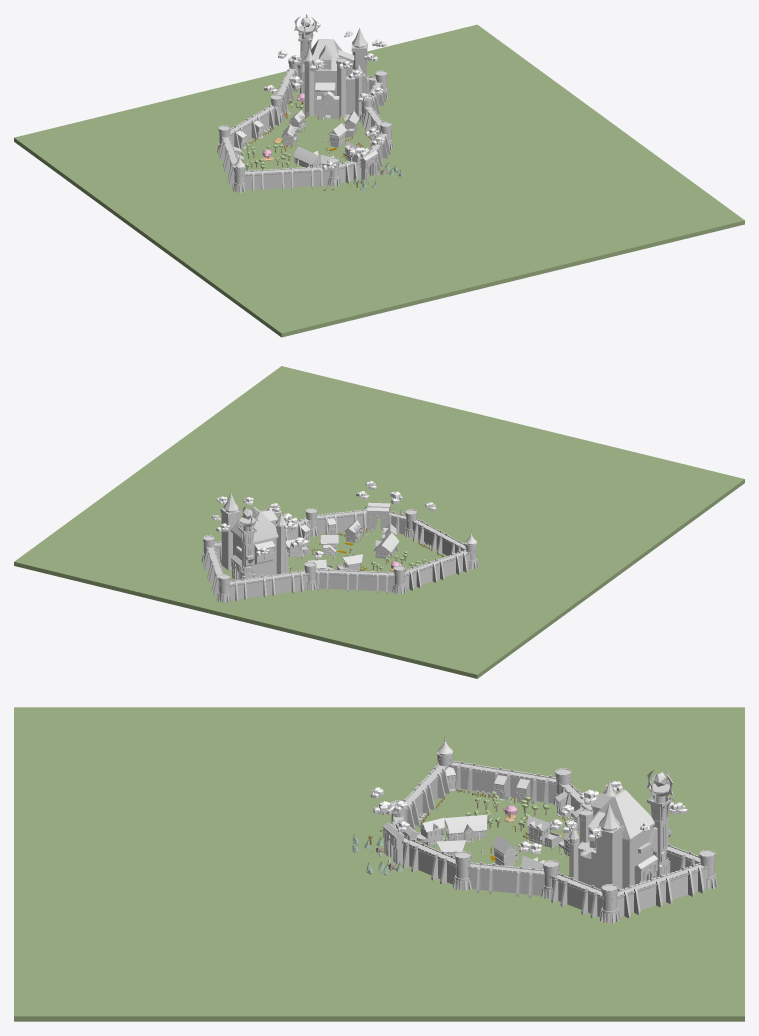
The model's file is castle-town.fbx.
3 renders of one model, top to bottom at view 1: azimuth 30°, elevation 25°; view 2: azimuth 150°, elevation 25°; view 3: azimuth 270°, elevation 25°, orthographic. The views are drawn at different scales.
Visible parts, largest first — view 1: ground, ps.medieval002.Castle, ps.medieval002.portal base.002, ps.medieval002.portal base.004, ps.medieval002.Tower, ps.medieval002.portal base.003; view 2: ground, ps.medieval002.Castle, ps.medieval002.portal base, ps.medieval002.portal base.004, ps.medieval002.portal base.003, ps.medieval002.portal base.002, ps.medieval002.Tower, ps.medieval002.Wall mid, ps.medieval002.portal base.001; view 3: ground, ps.medieval002.Castle, ps.medieval002.portal base.001, ps.medieval002.portal base.003, ps.medieval002.Wall mid.002, ps.medieval002.Tower, ps.medieval002.Wall mid, ps.medieval002.portal base.002, ps.medieval002.Wall mid.001, ps.medieval002.Armory, ps.medieval002.House04.001, ps.medieval002.Entrence small (+5 smaller).
Part boxes in pixels (box(x1,y1,x2,y2)): ground: box(14, 24, 744, 337); ps.medieval002.Castle: box(302, 28, 367, 118); ps.medieval002.portal base.002: box(244, 165, 331, 192); ps.medieval002.portal base.004: box(229, 105, 279, 148); ps.medieval002.Tower: box(294, 14, 317, 93); ps.medieval002.portal base.003: box(218, 136, 238, 185); ground: box(14, 366, 744, 678); ps.medieval002.Castle: box(220, 493, 286, 577); ps.medieval002.portal base: box(229, 570, 309, 601); ps.medieval002.portal base.004: box(315, 568, 394, 593); ps.medieval002.portal base.003: box(405, 550, 471, 590); ps.medieval002.portal base.002: box(412, 518, 465, 555); ps.medieval002.Tower: box(236, 506, 258, 579); ps.medieval002.Wall mid: box(316, 509, 366, 534); ps.medieval002.portal base.001: box(203, 546, 223, 595); ground: box(14, 707, 744, 1021); ps.medieval002.Castle: box(568, 780, 654, 889); ps.medieval002.portal base.001: box(617, 863, 709, 918); ps.medieval002.portal base.003: box(449, 760, 557, 804); ps.medieval002.Wall mid.002: box(467, 862, 544, 897); ps.medieval002.Tower: box(638, 769, 673, 877); ps.medieval002.Wall mid: box(402, 836, 455, 884); ps.medieval002.portal base.002: box(403, 763, 449, 830); ps.medieval002.Wall mid.001: box(550, 873, 602, 918); ps.medieval002.Armory: box(444, 814, 487, 842); ps.medieval002.House04.001: box(526, 815, 560, 847); ps.medieval002.Entrence small: box(382, 822, 404, 864).
Bounding box in the file's own units: 24000 × 4161 × 24000.
